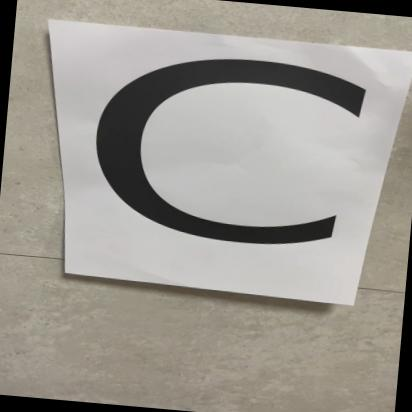seat: (28, 16, 403, 298)
